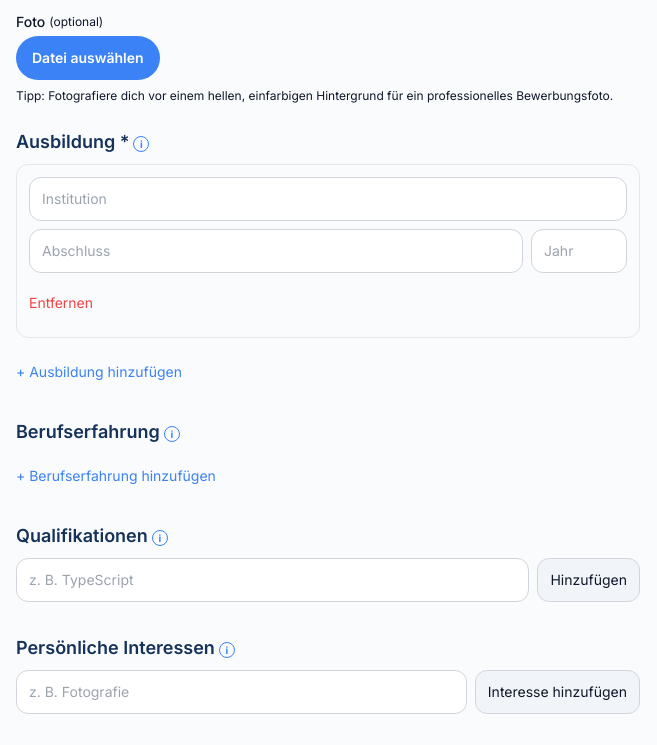
Test case: ProfileForm › fügt einen neuen Ausbildungseintrag hinzu
The width and height of the screenshot is (657, 745).
(page scrolled)
Click the button "+ Ausbildung hinzufügen" at (99, 372), box [16,350,182,394]
(page scrolled)
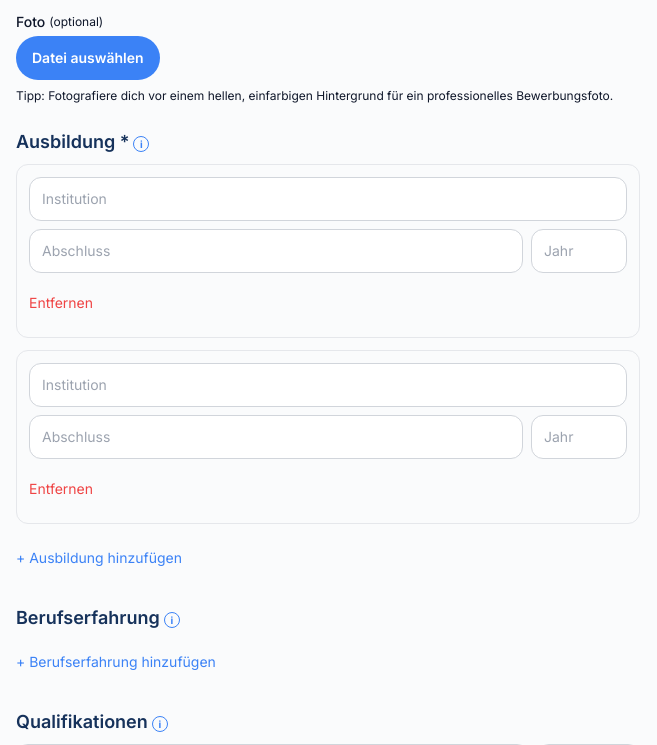
Now the number of fields with placeholder "Institution" is 2, box [29,177,627,221]; [29,363,627,407]
